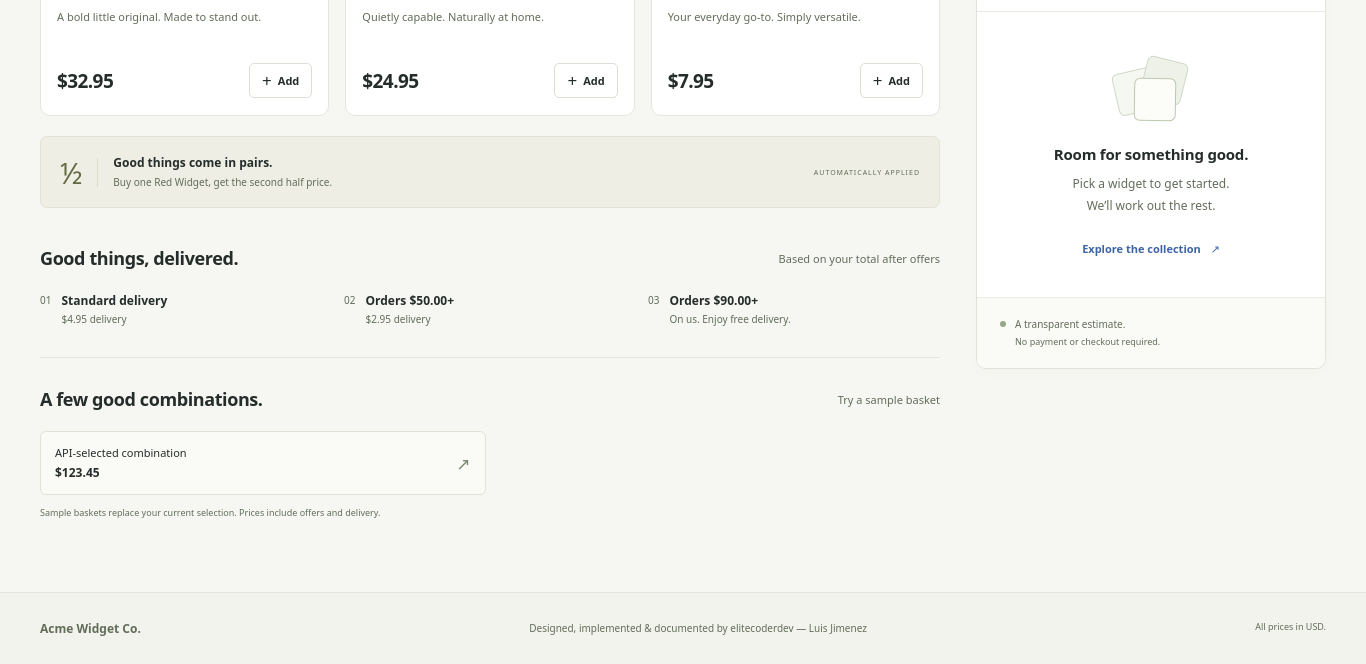
Scenario: storefront › uses catalog-provided promotional identity and sample basket prices
(page scrolled)
Click the button "API-selected combination $123.45 ↗": (121, 452) [40,431,486,495]
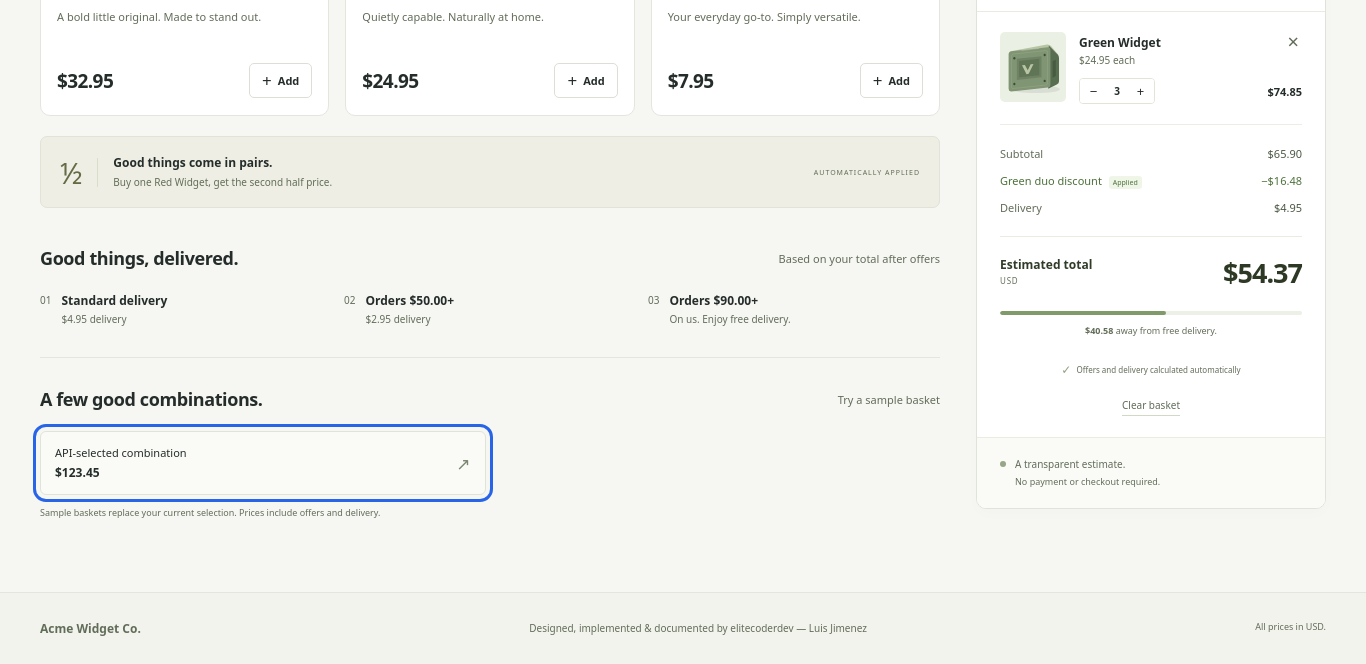
Expected: the text "Green duo discount" is shown, [1000,173,1102,188]
